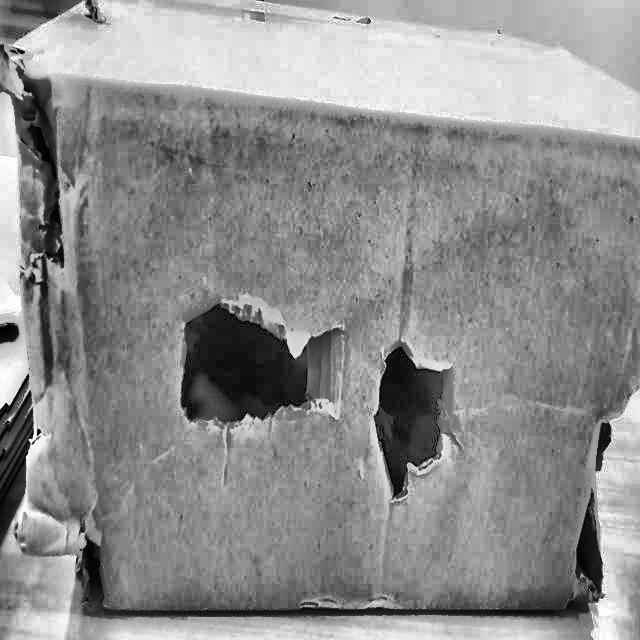box: (0, 0, 639, 616)
hole: (171, 296, 341, 438), (366, 331, 457, 497), (10, 64, 74, 276), (574, 390, 612, 597), (75, 519, 117, 611)
